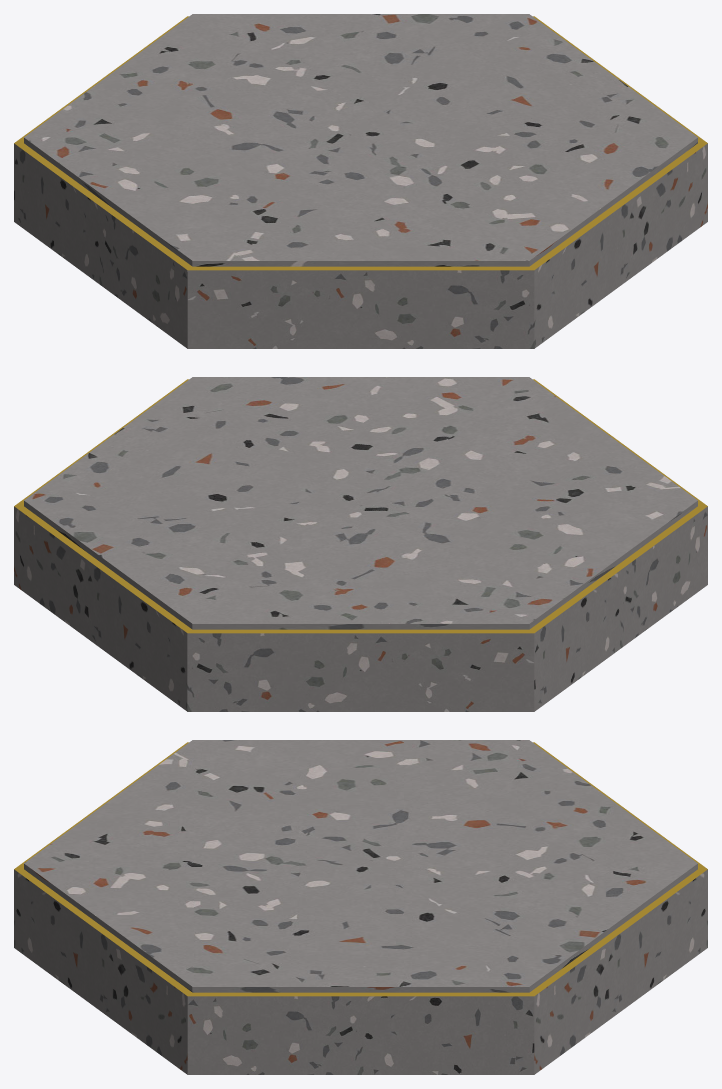
Rendered from terrazzoTile.fbx.
3 views of the same model, one above another, from view 1: azimuth 30°, elevation 25°; view 2: azimuth 150°, elevation 25°; view 3: azimuth 270°, elevation 25° (orthographic).
Visible parts, largest first — view 1: terrazzoTile; view 2: terrazzoTile; view 3: terrazzoTile.
Boxes of the visible parts, x1,y1,x2,y2 form: terrazzoTile: (14,14,707,348); terrazzoTile: (14,377,707,711); terrazzoTile: (14,740,707,1074).
Size of the model in its own units: 200 by 30.98 by 231.
